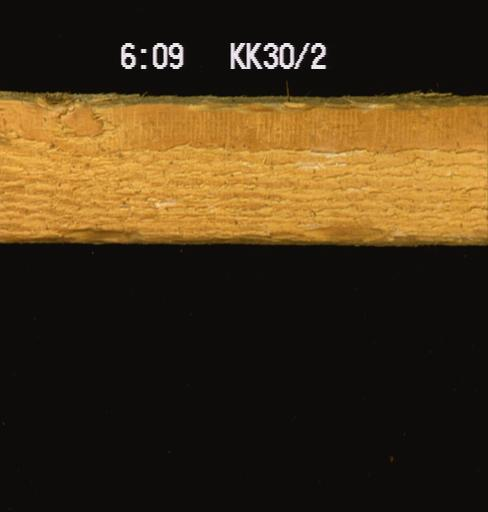edge_knot: (33, 92, 77, 108)
wave: (50, 229, 420, 244)
